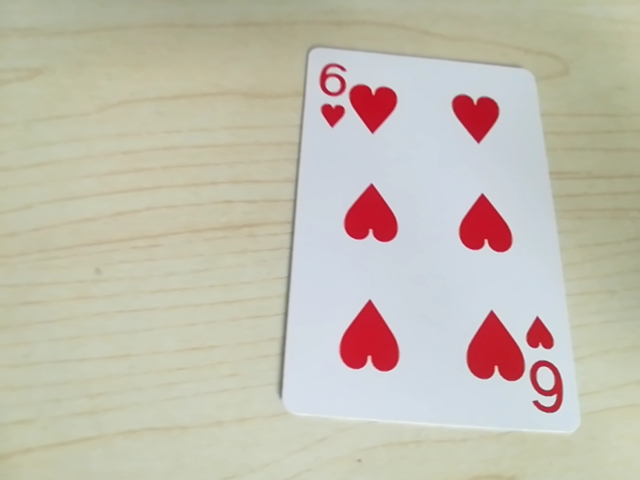hx 6: (311, 51, 359, 130), (520, 348, 565, 418)
